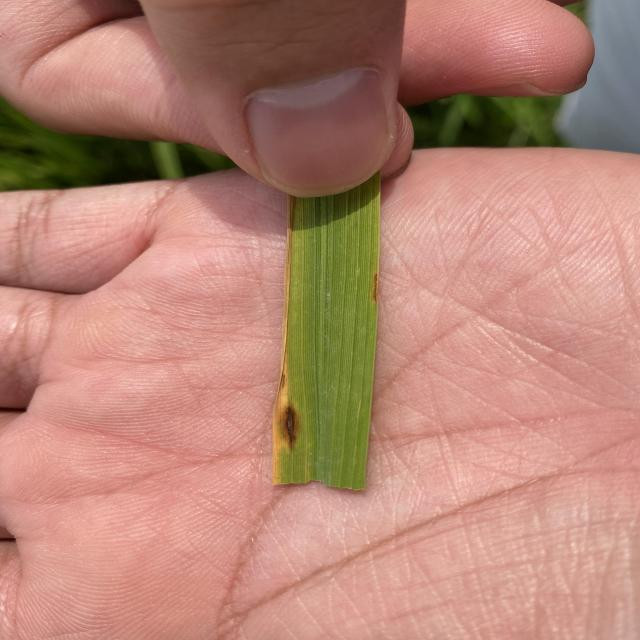Dom nau: (279, 398, 301, 455)
